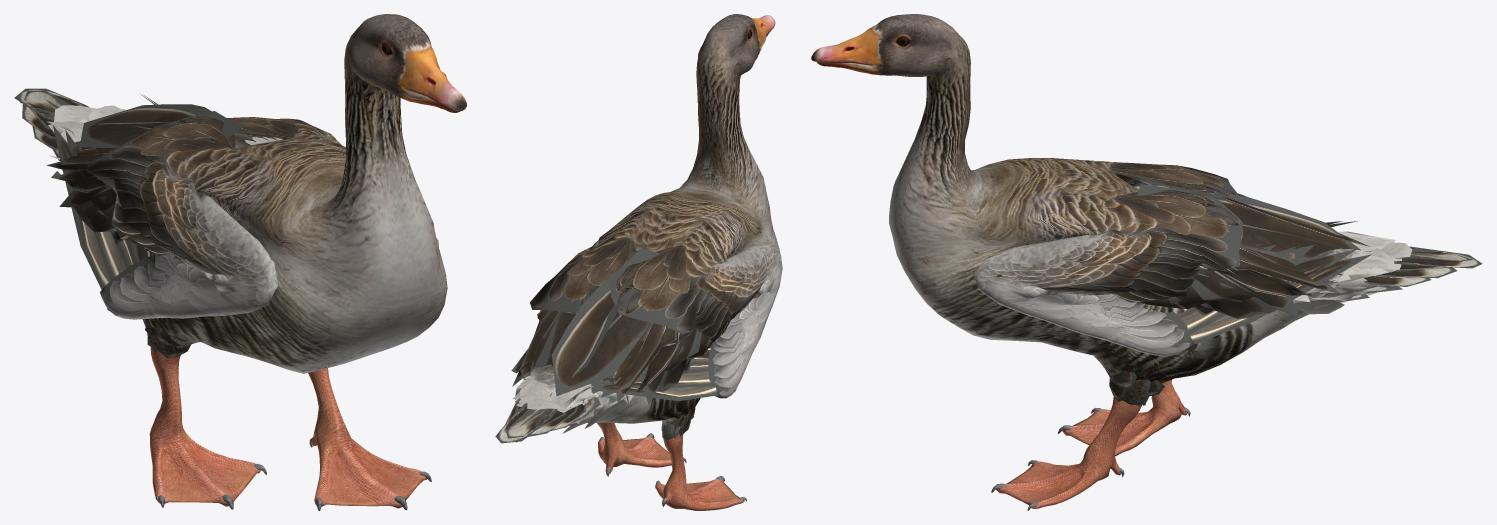
File: a_goose.glb
The picture shows the model from 3 angles, left to right: view 1: azimuth 30°, elevation 25°; view 2: azimuth 150°, elevation 25°; view 3: azimuth 270°, elevation 25°; orthographic projection. The views are drawn at different scales.
Visible parts, largest first — view 1: Goose.003_applied_clean_M_Goose2_0_M_Goose_0; view 2: Goose.003_applied_clean_M_Goose2_0_M_Goose_0; view 3: Goose.003_applied_clean_M_Goose2_0_M_Goose_0.
Boxes of the visible parts, x1,y1,x2,y2 form: Goose.003_applied_clean_M_Goose2_0_M_Goose_0: (14,14,466,510); Goose.003_applied_clean_M_Goose2_0_M_Goose_0: (495,14,782,510); Goose.003_applied_clean_M_Goose2_0_M_Goose_0: (811,14,1482,510).
Bounding box in the file's own units: 0.2862 × 0.5955 × 0.8.
1 material, 1 textured.
